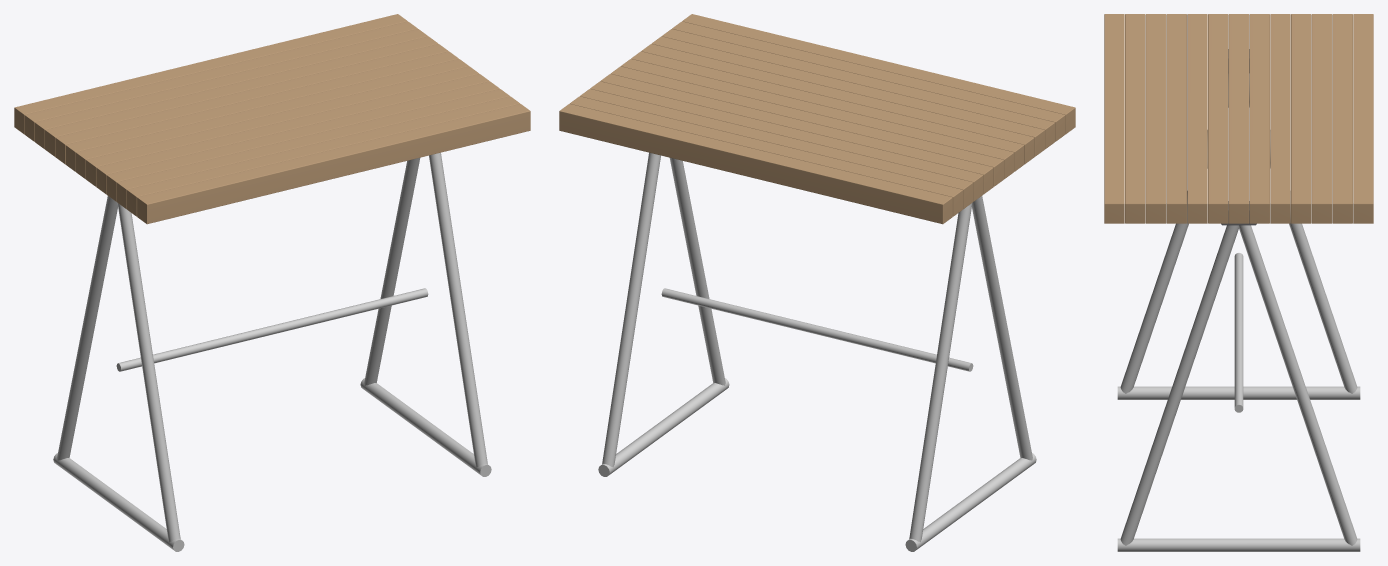
Rendered from industrial.workshop.bench_compact.glb.
3 renders of one model, left to right at view 1: azimuth 30°, elevation 25°; view 2: azimuth 150°, elevation 25°; view 3: azimuth 270°, elevation 25°, orthographic.
Visible parts, largest first — view 1: main__timber_ca7, main__galv_ccc; view 2: main__timber_ca7, main__galv_ccc; view 3: main__timber_ca7, main__galv_ccc.
Boxes of the visible parts, x1,y1,x2,y2 form: main__timber_ca7: (14, 14, 530, 224); main__galv_ccc: (53, 152, 491, 551); main__timber_ca7: (559, 14, 1075, 224); main__galv_ccc: (598, 152, 1036, 551); main__timber_ca7: (1104, 14, 1373, 223); main__galv_ccc: (1117, 73, 1360, 551).
Bounding box in the file's own units: 1 × 0.9 × 0.5992.
